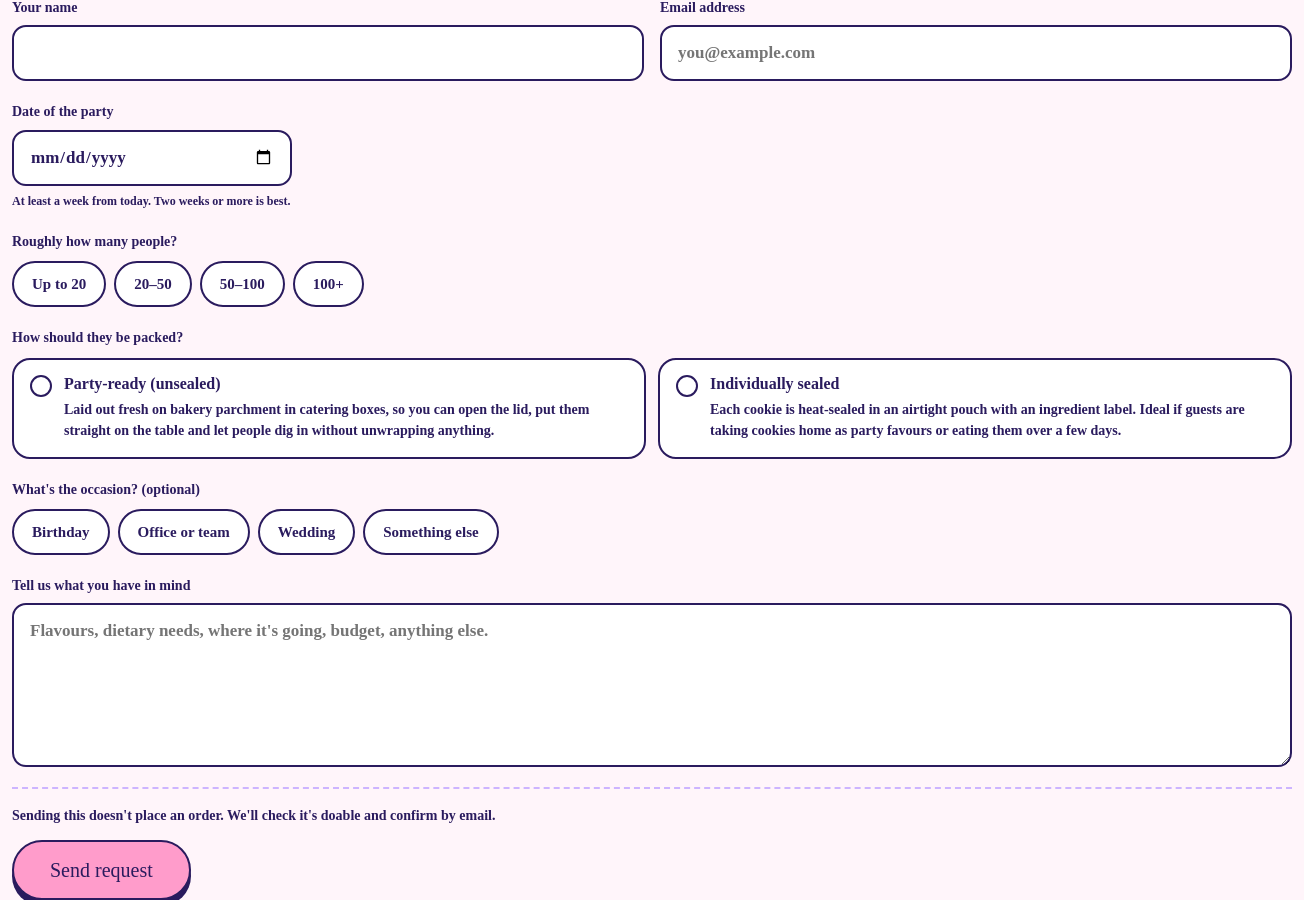
CustomOrderForm › shows what's missing, focuses the first gap, and sends nothing
This screenshot has width=1304, height=900.
Click the button "Send request".
click(101, 870)  # box 12,840 -> 191,899
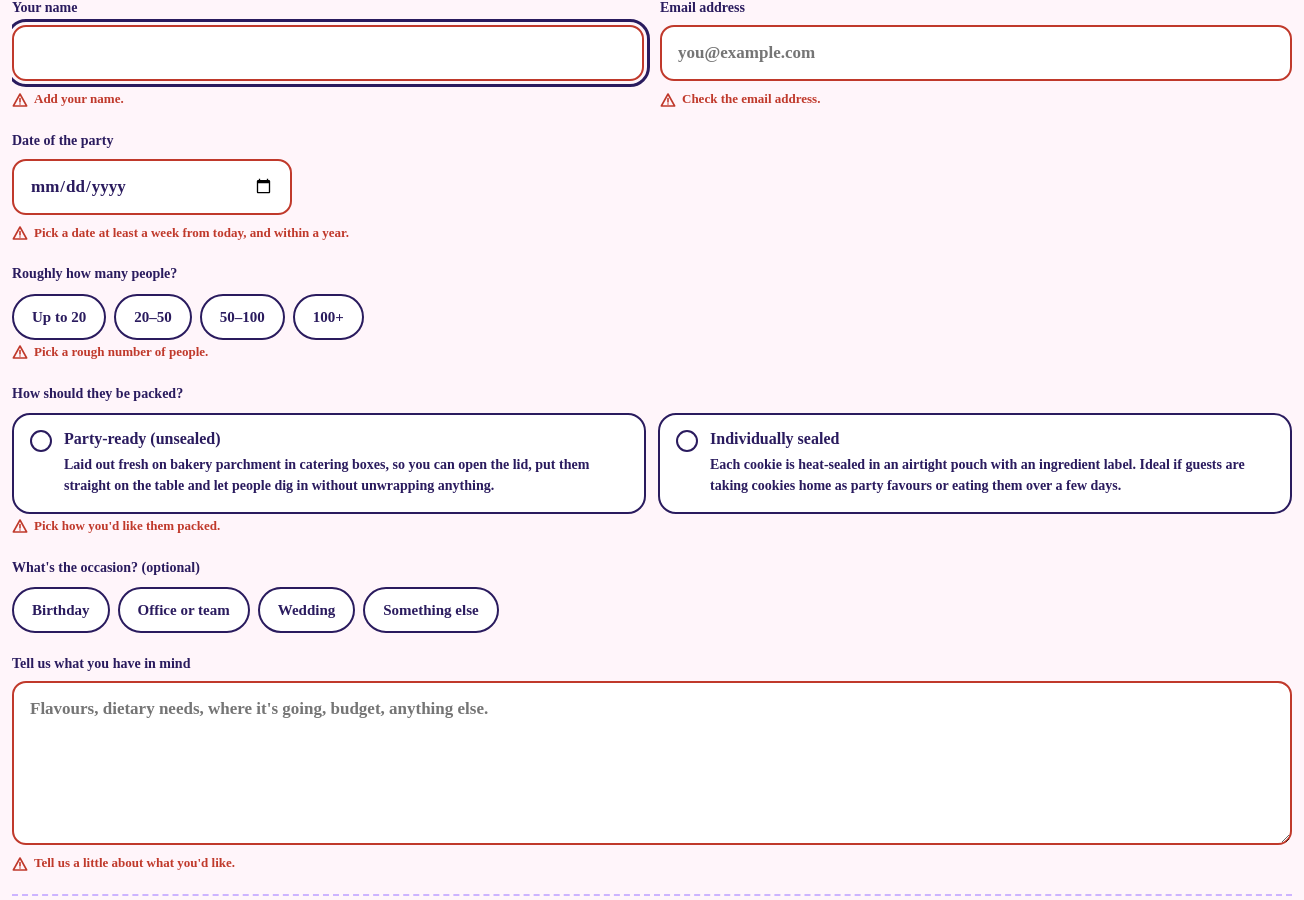
Now the text "Add your name." is shown, box 12,91 -> 124,108
Now the text "Check the email address." is shown, box 660,91 -> 820,108
Now the text "Pick a date at least a week from today, and within a year." is shown, box 12,225 -> 349,241
